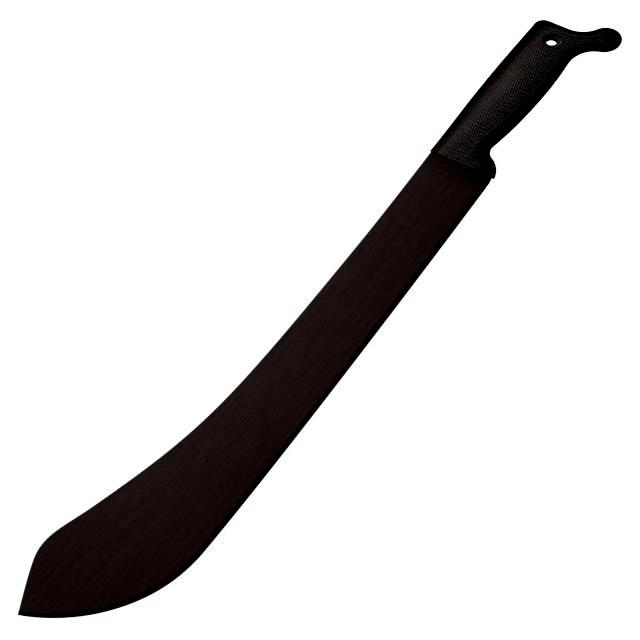long knife: (31, 13, 596, 623)
